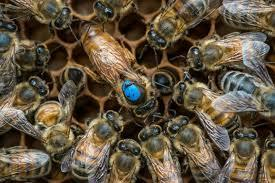Queen-Bee: (78, 19, 163, 119)
worker-bee: (67, 109, 129, 183), (164, 108, 224, 183), (173, 71, 240, 136), (187, 31, 268, 73), (216, 64, 275, 114), (155, 0, 205, 55), (0, 75, 49, 130), (141, 122, 175, 183), (112, 130, 144, 183)
